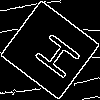H: (25, 25, 83, 82)
